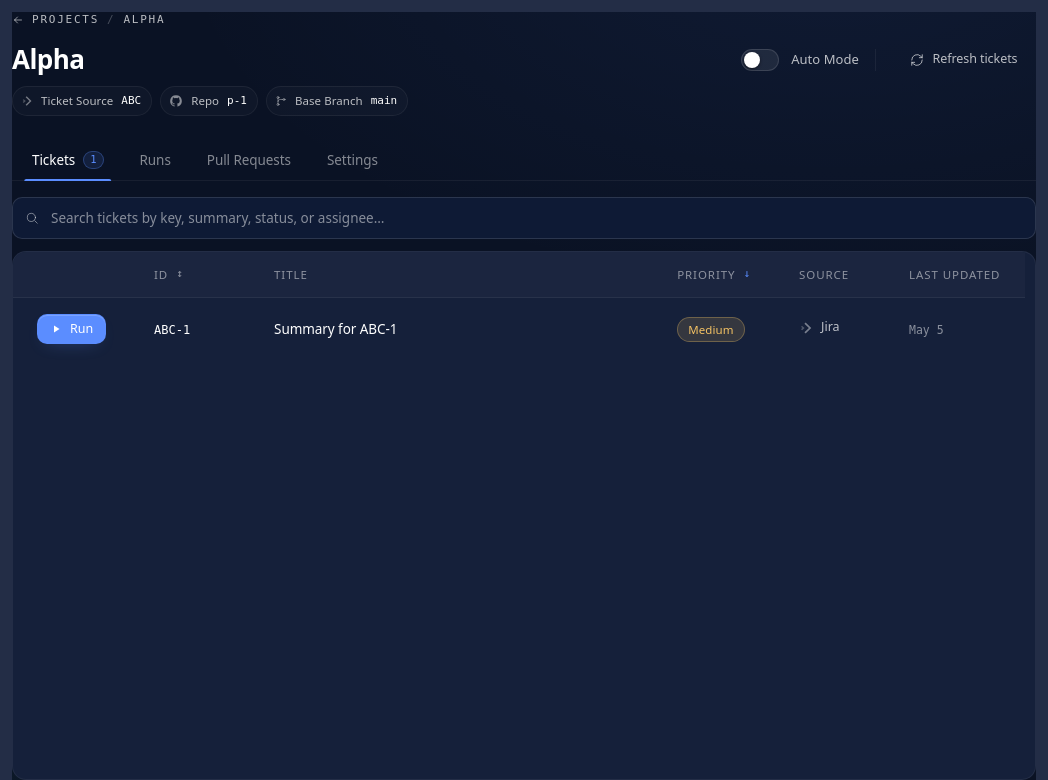
Test: <ProjectDetail /> — DET › DET-RUN-002 runs.start error → inline banner › DET-RUN-002: runs.start error response surfaces as an inline banner
Click the button with test id "ticket-run-button-ABC-1" at (72, 329), box [37,314,106,344]
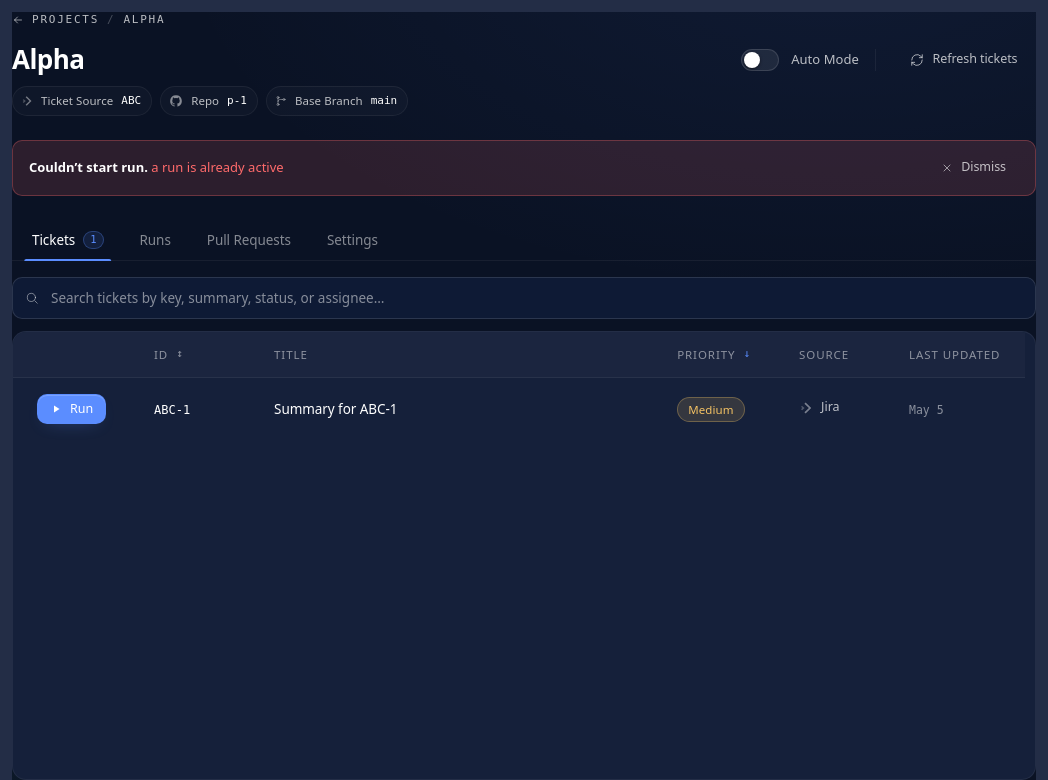
Result: the text "Couldn’t start run. a run is already active" is shown at [29,158,284,177]
